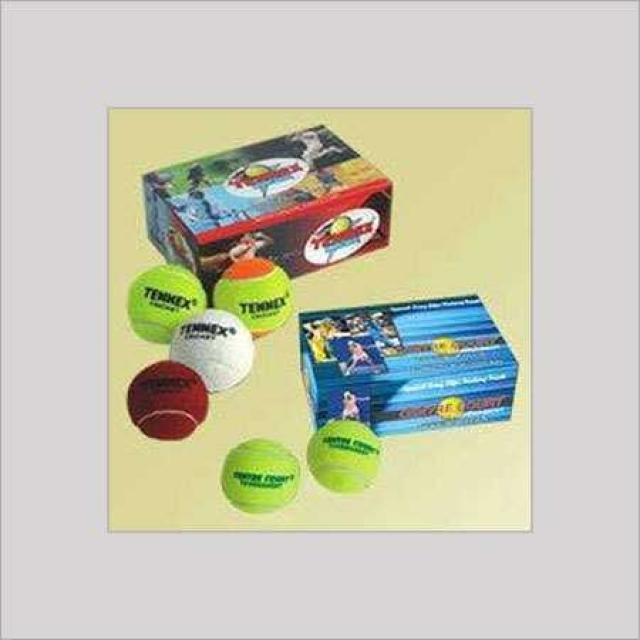Tennis_Ball: (223, 438, 300, 518), (131, 362, 202, 444), (313, 416, 381, 496), (174, 314, 251, 382), (220, 261, 292, 333), (133, 266, 196, 336)
